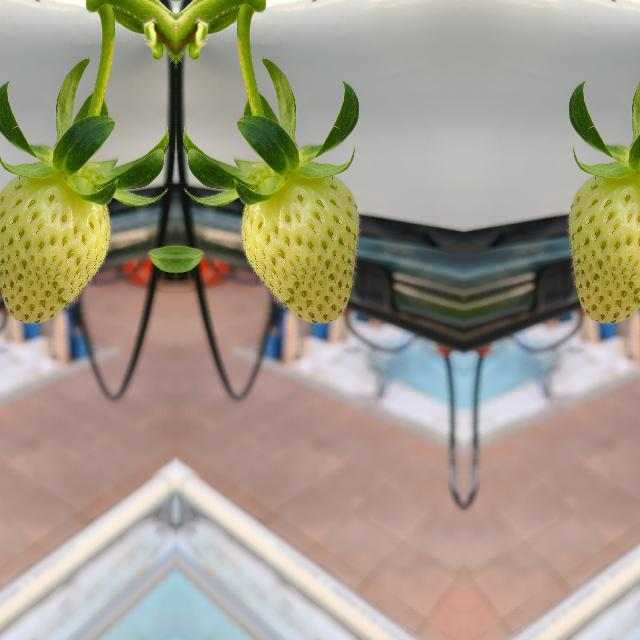Health_25: (238, 174, 362, 326), (0, 174, 111, 325), (564, 174, 640, 325)
